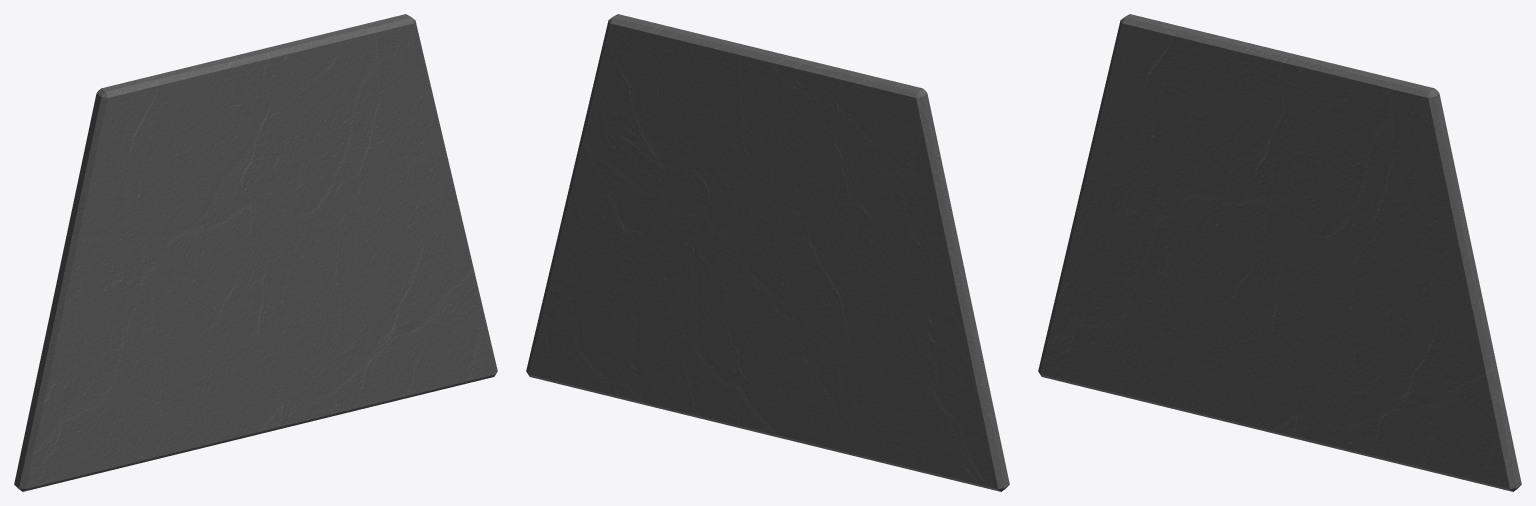
File: aboveBase02.fbx
3 views of the same model, side by side, from view 1: azimuth 30°, elevation 25°; view 2: azimuth 150°, elevation 25°; view 3: azimuth 330°, elevation 25° (orthographic).
Visible parts, largest first — view 1: aboveBase02; view 2: aboveBase02; view 3: aboveBase02.
Boxes of the visible parts, x1,y1,x2,y2 form: aboveBase02: (14,14,497,491); aboveBase02: (526,14,1009,491); aboveBase02: (1038,14,1521,491).
Bounding box in the file's own units: 28.64 × 21.7 × 1.
